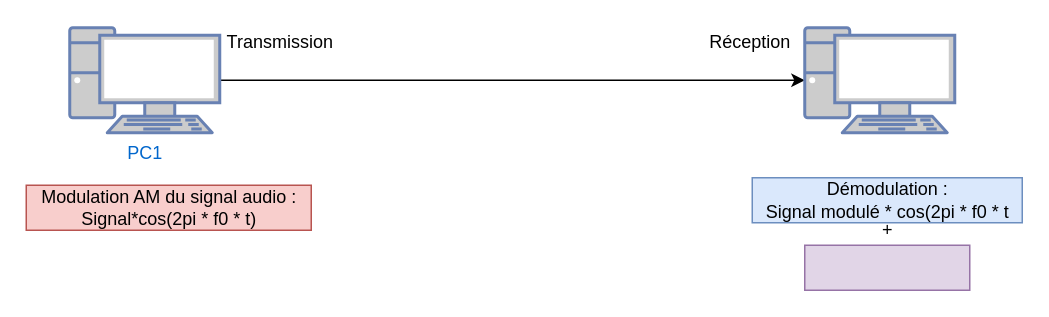
The diagram is 1049 pixels wide and 317 high, and some of its shapes have lost their labels. The shapes that lost their labels are listed below. From the top down, each one's centre as x and y in pixels, then its label:
[879,80]: PC2
[886,267]: filtre passe-bas
